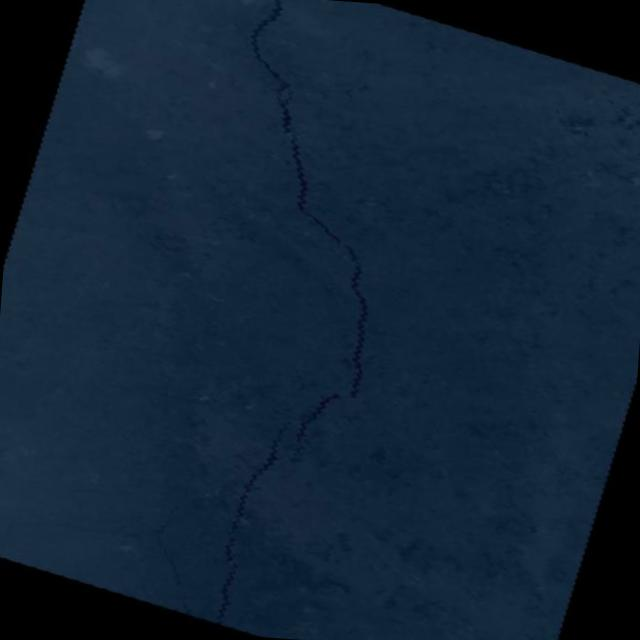crack: (112, 0, 469, 482), (200, 409, 292, 630), (134, 481, 225, 616)
